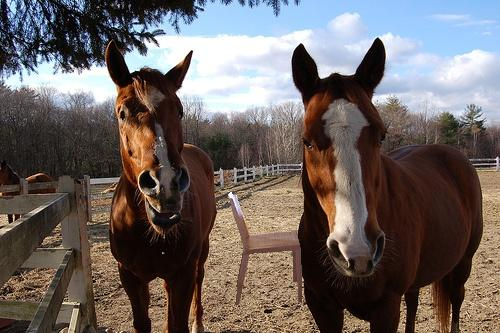tampered: (229, 193, 302, 305)
